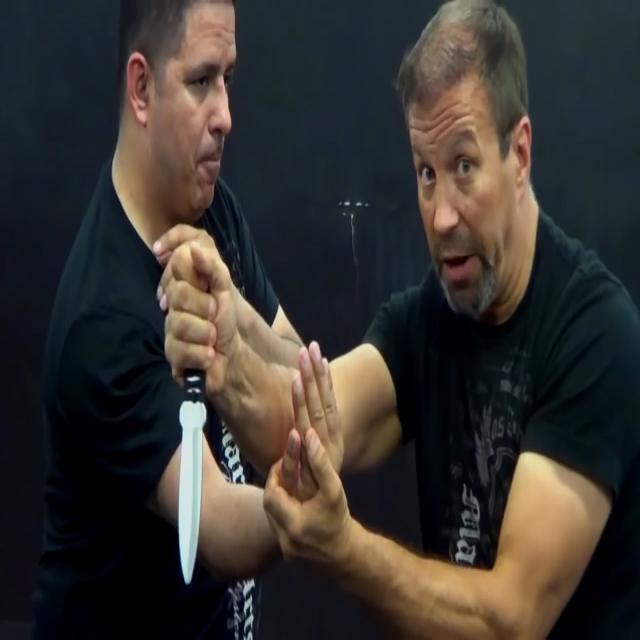knife: (179, 364, 213, 588)
